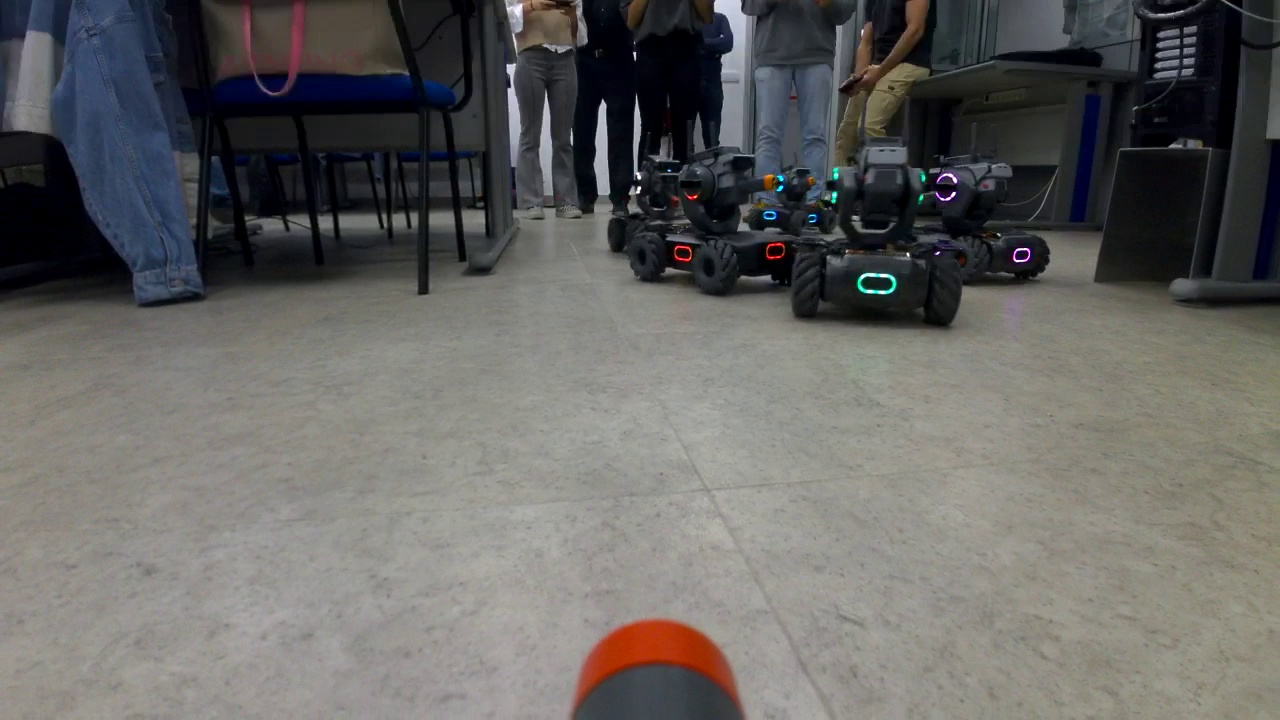robot: (792, 137, 965, 333), (628, 144, 785, 297), (932, 151, 1052, 285), (746, 170, 838, 237)
